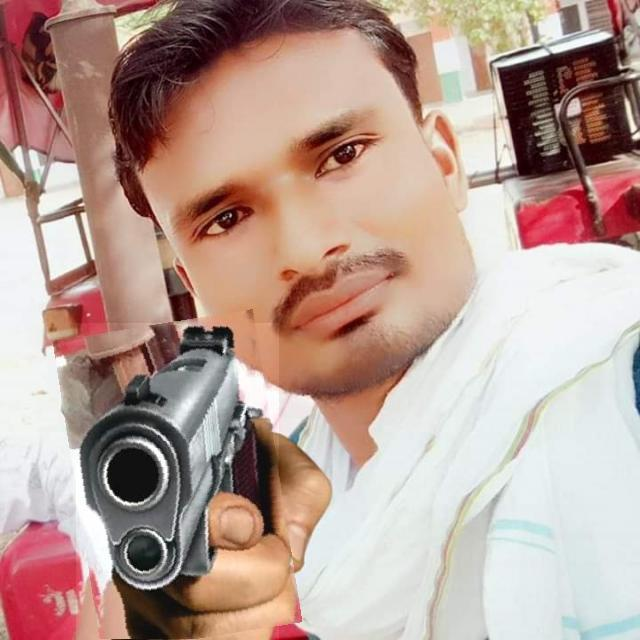handgun: (64, 316, 290, 640)
